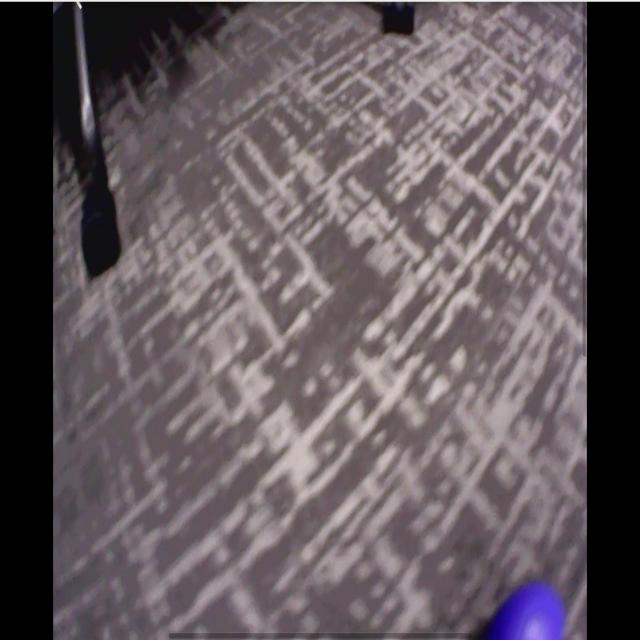ball: (494, 586, 564, 640)
